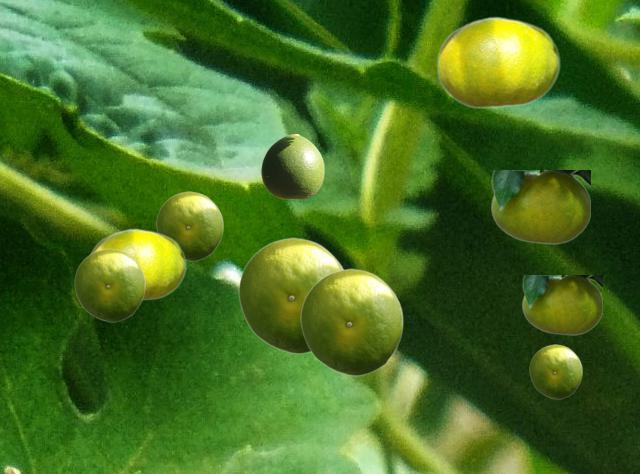dalandan: (238, 237, 343, 353), (436, 16, 559, 108), (300, 268, 402, 375), (491, 170, 589, 243), (90, 228, 185, 300), (74, 248, 144, 321), (522, 275, 601, 334), (156, 191, 222, 260), (261, 134, 323, 198), (529, 344, 581, 398)
